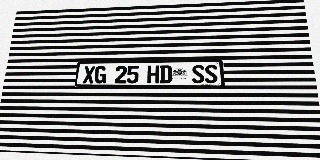plate: (75, 59, 225, 87)
